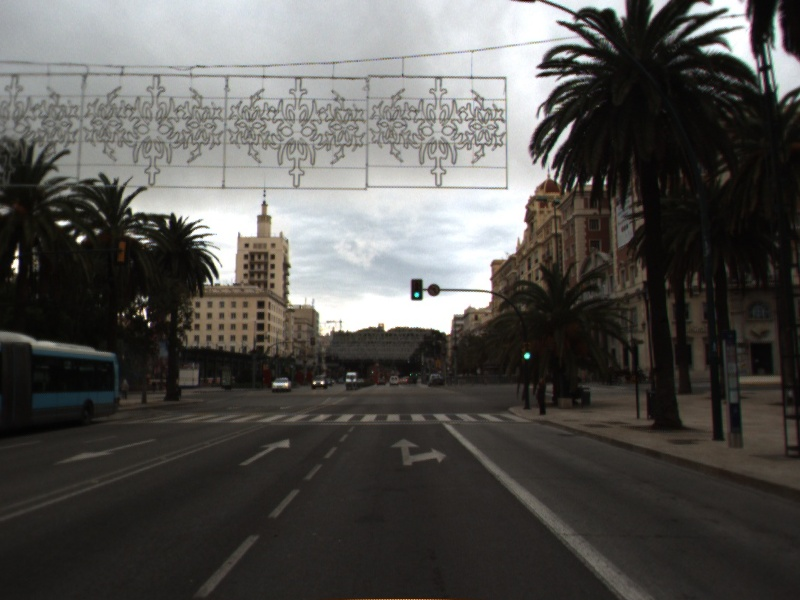STRAIGHT: (237, 436, 292, 467)
STRAIGHT_RIGHT: (388, 436, 449, 468)
